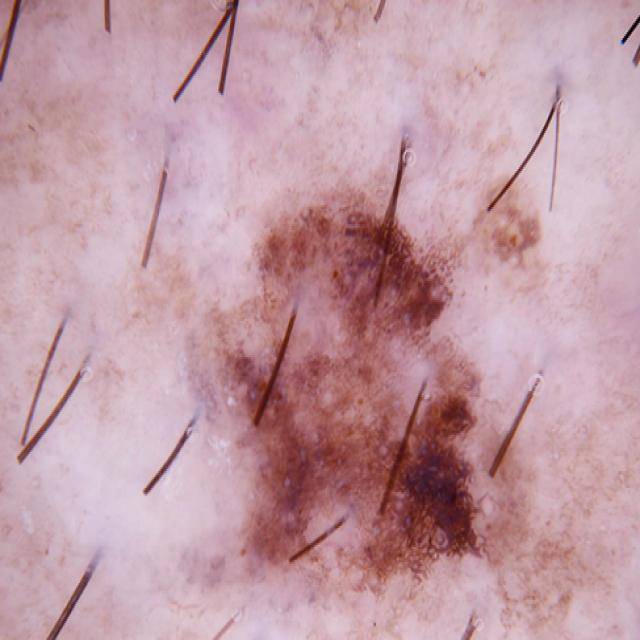Keratosis: (194, 163, 513, 623)
